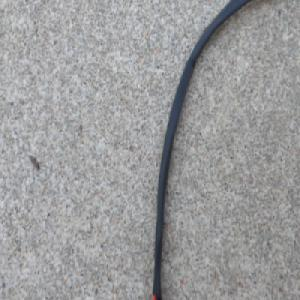Wire: (149, 0, 252, 300)
